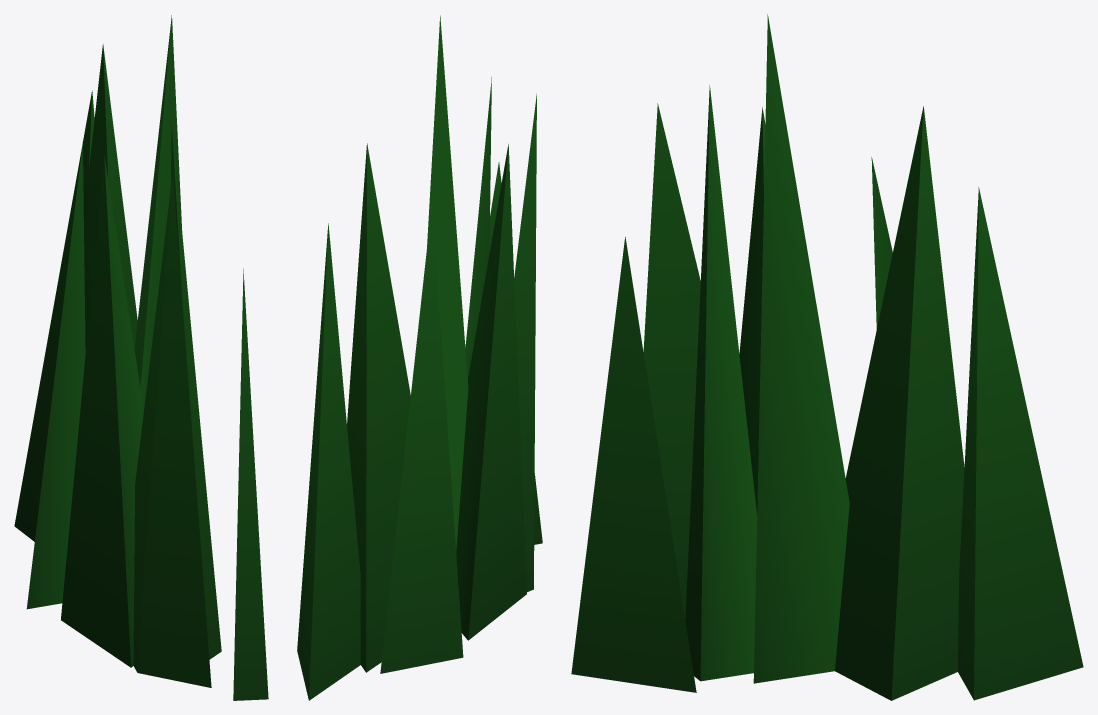
Rendered from c_grass_aa.fbx.
3 views of the same model, side by side, from view 1: azimuth 30°, elevation 25°; view 2: azimuth 150°, elevation 25°; view 3: azimuth 270°, elevation 25° (orthographic). The views are drawn at different scales.
Parts seen in each view (by area): view 1: c_grass_aa; view 2: c_grass_aa; view 3: c_grass_aa.
Boxes of the visible parts, box(x1,y1,x2,y2) form: c_grass_aa: box(14, 15, 268, 700); c_grass_aa: box(297, 15, 542, 700); c_grass_aa: box(571, 14, 1083, 700).
Size of the model in its own units: 0.2052 by 0.8618 by 0.608.
